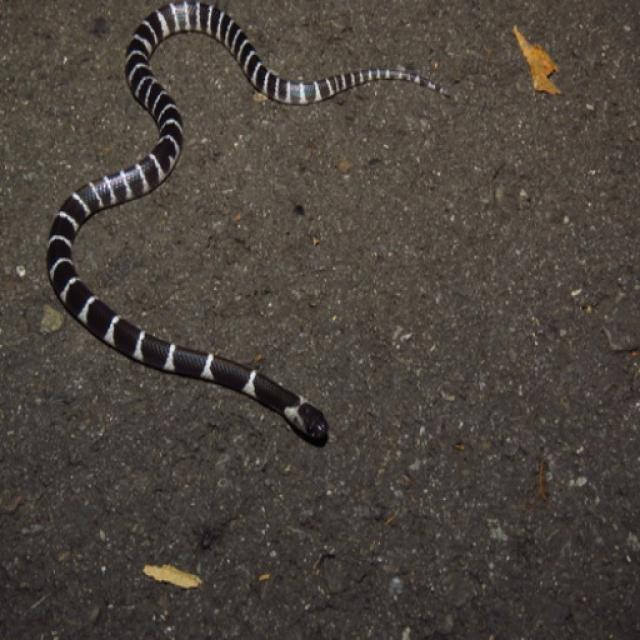snake: (38, 0, 462, 449)
